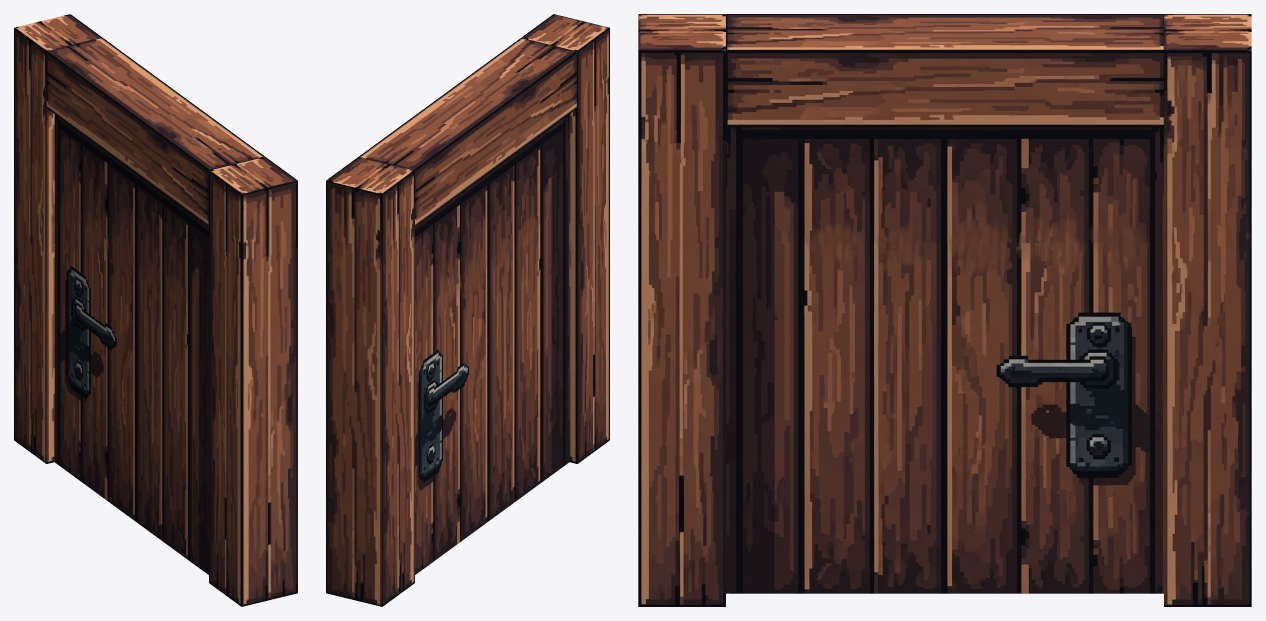
The model's file is pixeldoor.glb.
3 renders of one model, left to right at view 1: azimuth 30°, elevation 25°; view 2: azimuth 150°, elevation 25°; view 3: azimuth 270°, elevation 25°, orthographic. The views are drawn at different scales.
Parts seen in each view (by area): view 1: Frame, Door; view 2: Frame, Door; view 3: Door, Frame.
Part boxes in pixels (x1,y1,x2,y2): Frame: (14, 14, 297, 606); Door: (54, 114, 208, 574); Frame: (326, 14, 609, 606); Door: (415, 114, 569, 574); Door: (726, 127, 1163, 593); Frame: (638, 14, 1251, 606).
Size of the model in its own units: 2 by 14 by 14.
1 material, 1 textured.
